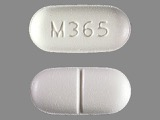Acetaminophen 325 MG Oral Tablet: (25, 2, 134, 55), (29, 64, 134, 117)
